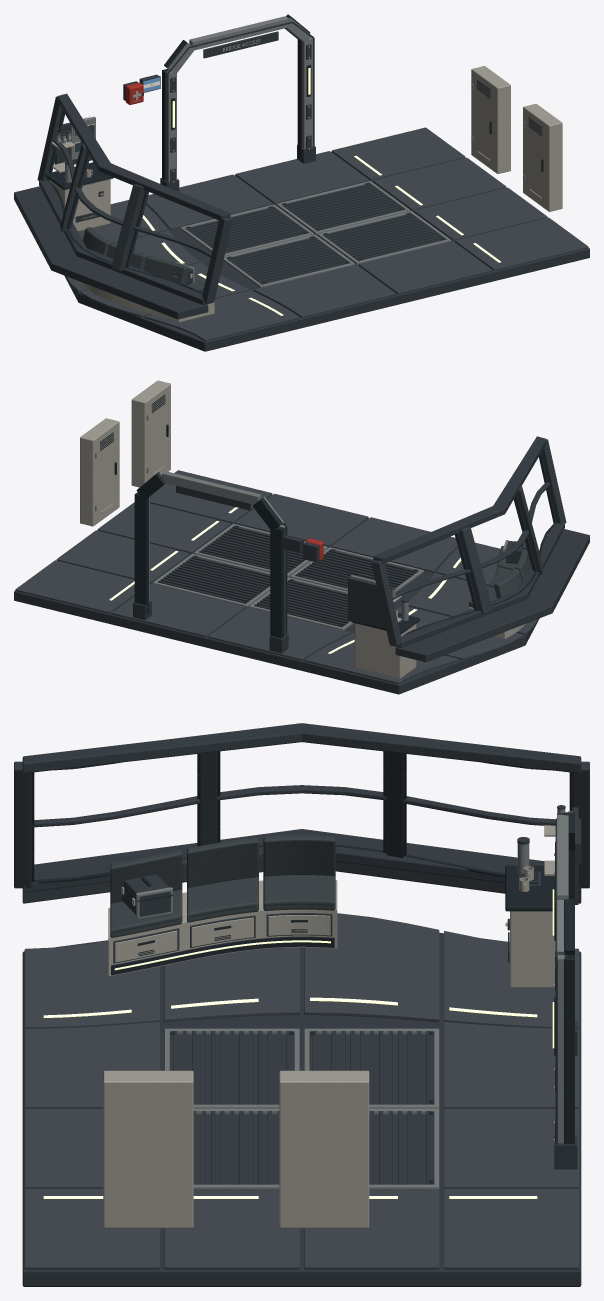
File: cruz-del-sur-refined-arrival.glb
3 views of the same model, one above another, from view 1: azimuth 30°, elevation 25°; view 2: azimuth 150°, elevation 25°; view 3: azimuth 270°, elevation 25° (orthographic). The views are drawn at different scales.
Visible parts, largest first — view 1: REFINED_arrival_static_ARRIVAL V4 Graphite frame, REFINED_arrival_static_CDS DETAIL_Graphite deck - restrained, REFINED_arrival_static_ARRIVAL V4 Ivory cabinets, REFINED_arrival_static_ARRIVAL V4 Warm grey panels, REFINED_arrival_static_ARRIVAL V4 Gaskets, REFINED_arrival_static_ARRIVAL V4 Bench cushions, REFINED_arrival_static_ARRIVAL V4 Amber lamps; view 2: REFINED_arrival_static_ARRIVAL V4 Graphite frame, REFINED_arrival_static_CDS DETAIL_Graphite deck - restrained, REFINED_arrival_static_ARRIVAL V4 Ivory cabinets, REFINED_arrival_static_ARRIVAL V4 Gaskets, REFINED_arrival_static_ARRIVAL V4 Warm grey panels, REFINED_arrival_static_ARRIVAL V4 Bench cushions, REFINED_arrival_static_ARRIVAL V4 Amber lamps; view 3: REFINED_arrival_static_CDS DETAIL_Graphite deck - restrained, REFINED_arrival_static_ARRIVAL V4 Graphite frame, REFINED_arrival_static_ARRIVAL V4 Ivory cabinets, REFINED_arrival_static_ARRIVAL V4 Bench cushions, REFINED_arrival_static_ARRIVAL V4 Gaskets, REFINED_arrival_static_ARRIVAL V4 Warm grey panels, REFINED_arrival_static_ARRIVAL V4 Amber lamps.
Boxes of the visible parts, x1,y1,x2,y2 form: REFINED_arrival_static_ARRIVAL V4 Graphite frame: (14,21,589,351); REFINED_arrival_static_CDS DETAIL_Graphite deck - restrained: (65,127,588,341); REFINED_arrival_static_ARRIVAL V4 Ivory cabinets: (49,46,562,322); REFINED_arrival_static_ARRIVAL V4 Warm grey panels: (56,16,525,287); REFINED_arrival_static_ARRIVAL V4 Gaskets: (45,14,543,294); REFINED_arrival_static_ARRIVAL V4 Bench cushions: (83,227,205,292); REFINED_arrival_static_ARRIVAL V4 Amber lamps: (142,68,500,315); REFINED_arrival_static_ARRIVAL V4 Graphite frame: (14,436,589,694); REFINED_arrival_static_CDS DETAIL_Graphite deck - restrained: (15,470,538,684); REFINED_arrival_static_ARRIVAL V4 Ivory cabinets: (80,380,524,678); REFINED_arrival_static_ARRIVAL V4 Gaskets: (100,394,556,638); REFINED_arrival_static_ARRIVAL V4 Warm grey panels: (95,414,508,634); REFINED_arrival_static_ARRIVAL V4 Bench cushions: (469,541,530,607); REFINED_arrival_static_ARRIVAL V4 Amber lamps: (109,507,461,653); REFINED_arrival_static_CDS DETAIL_Graphite deck - restrained: (24,913,578,1269); REFINED_arrival_static_ARRIVAL V4 Graphite frame: (14,723,589,1286); REFINED_arrival_static_ARRIVAL V4 Ivory cabinets: (103,813,557,1228); REFINED_arrival_static_ARRIVAL V4 Bench cushions: (110,835,335,937); REFINED_arrival_static_ARRIVAL V4 Gaskets: (31,751,574,1183); REFINED_arrival_static_ARRIVAL V4 Warm grey panels: (136,809,572,1188); REFINED_arrival_static_ARRIVAL V4 Amber lamps: (43,889,554,1198).
Size of the model in its own units: 9.96 by 3.34 by 6.39.
Materials: 16 (5 with a texture image).
